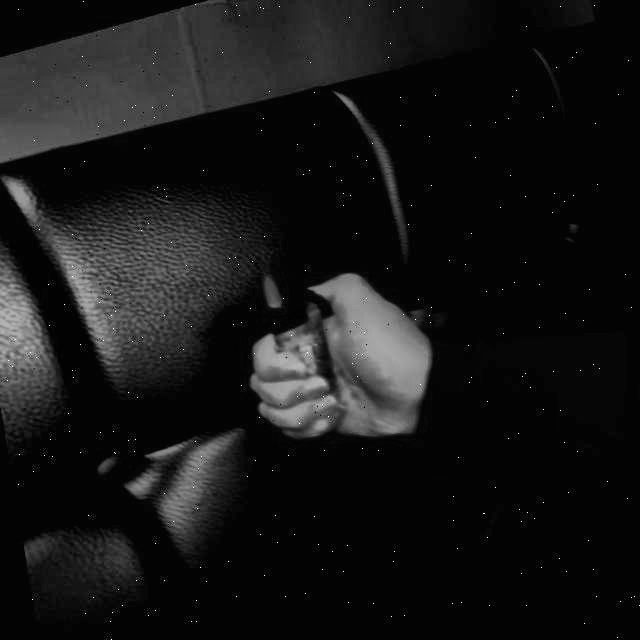Fire: (257, 274, 288, 318)
